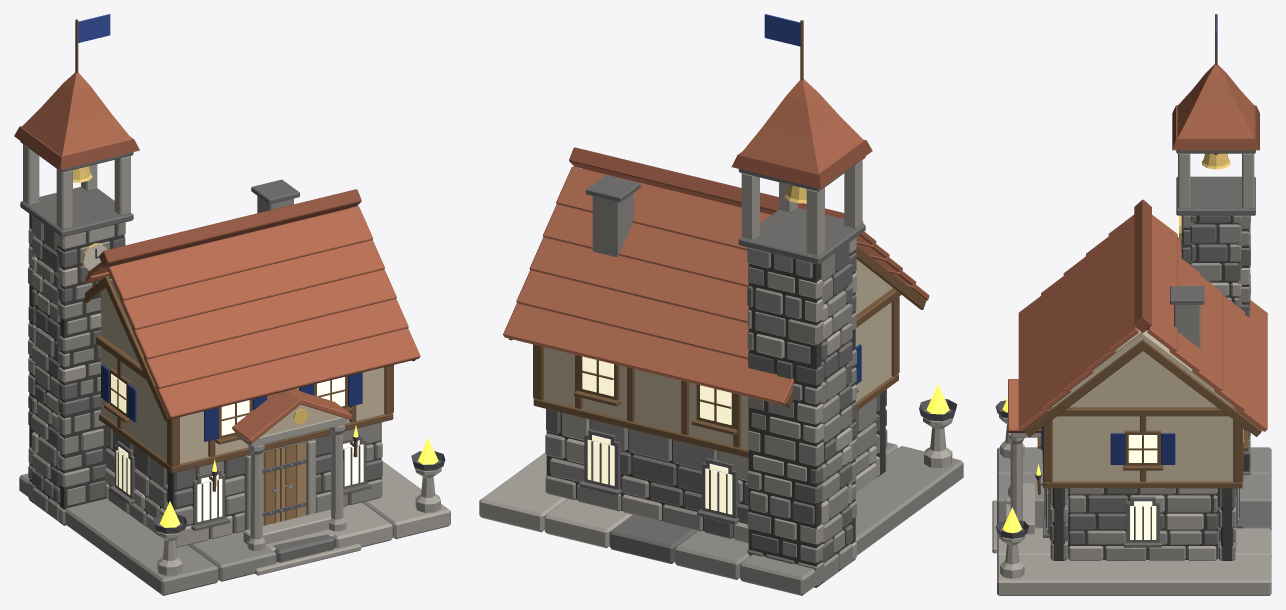
File: town_hall_2.glb
3 views of the same model, side by side, from view 1: azimuth 30°, elevation 25°; view 2: azimuth 150°, elevation 25°; view 3: azimuth 270°, elevation 25° (orthographic). The views are drawn at different scales.
Visible parts, largest first — view 1: TownHall; view 2: TownHall; view 3: TownHall.
Part boxes in pixels (<box>): TownHall: <box>14,14,450,595</box>; TownHall: <box>479,14,963,595</box>; TownHall: <box>992,14,1271,595</box>.
Bounding box in the file's own units: 7.43 × 11.5 × 6.3.
